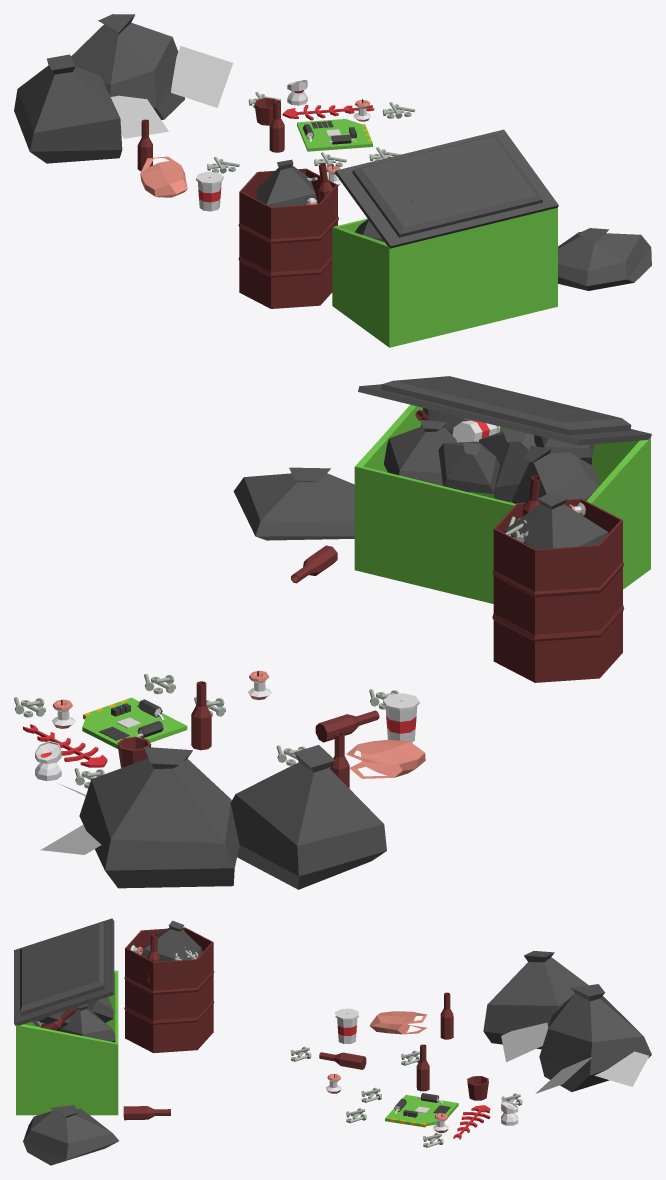
File: déchet mesh 4.fbx
3 renders of one model, top to bottom at view 1: azimuth 30°, elevation 25°; view 2: azimuth 150°, elevation 25°; view 3: azimuth 270°, elevation 25°, orthographic. The views are drawn at different scales.
Visible parts, largest first — view 1: entrepot dechets 6.009; view 2: entrepot dechets 6.009; view 3: entrepot dechets 6.009.
Boxes of the visible parts, x1,y1,x2,y2 form: entrepot dechets 6.009: (14,14,651,347); entrepot dechets 6.009: (14,376,651,889); entrepot dechets 6.009: (14,918,651,1165).
Size of the model in its own units: 749 by 283 by 1251.
